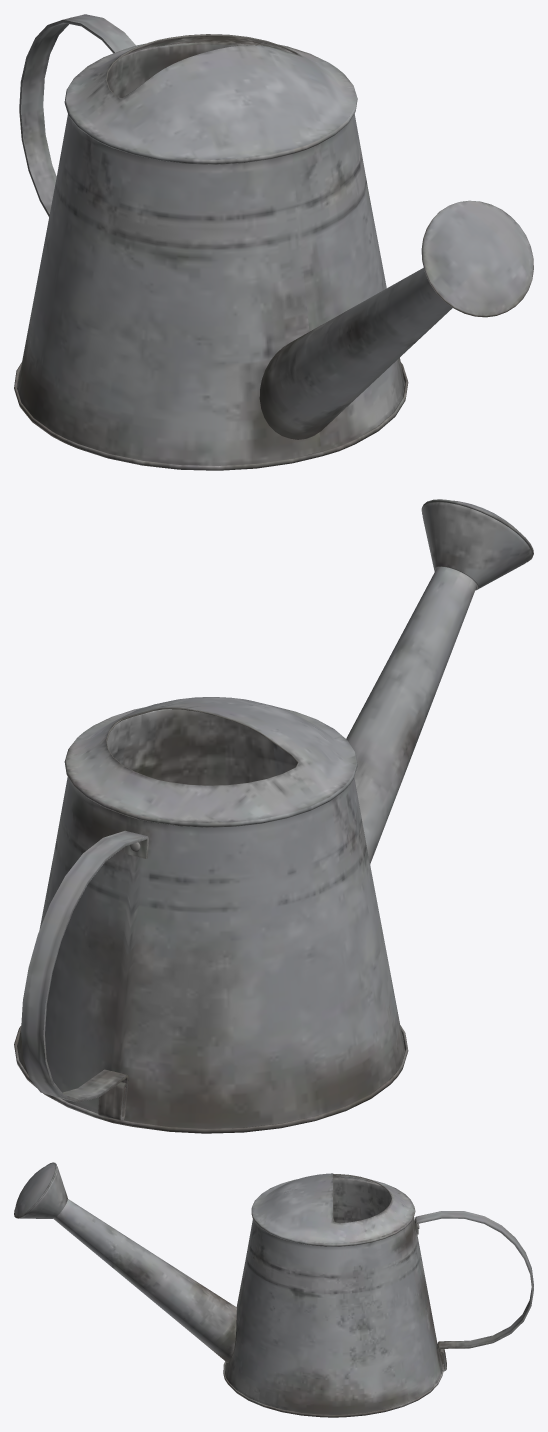
Rendered from watering_can_metal_01.glb.
3 views of the same model, one above another, from view 1: azimuth 30°, elevation 25°; view 2: azimuth 150°, elevation 25°; view 3: azimuth 270°, elevation 25° (orthographic). The views are drawn at different scales.
Parts seen in each view (by area): view 1: watering_can_metal_01; view 2: watering_can_metal_01; view 3: watering_can_metal_01.
Part boxes in pixels (x1,y1,x2,y2): watering_can_metal_01: [14, 14, 533, 470]; watering_can_metal_01: [14, 499, 533, 1133]; watering_can_metal_01: [14, 1162, 533, 1417].
Bounding box in the file's own units: 0.191 × 0.1968 × 0.4523.
Materials: 1 (1 with a texture image).
